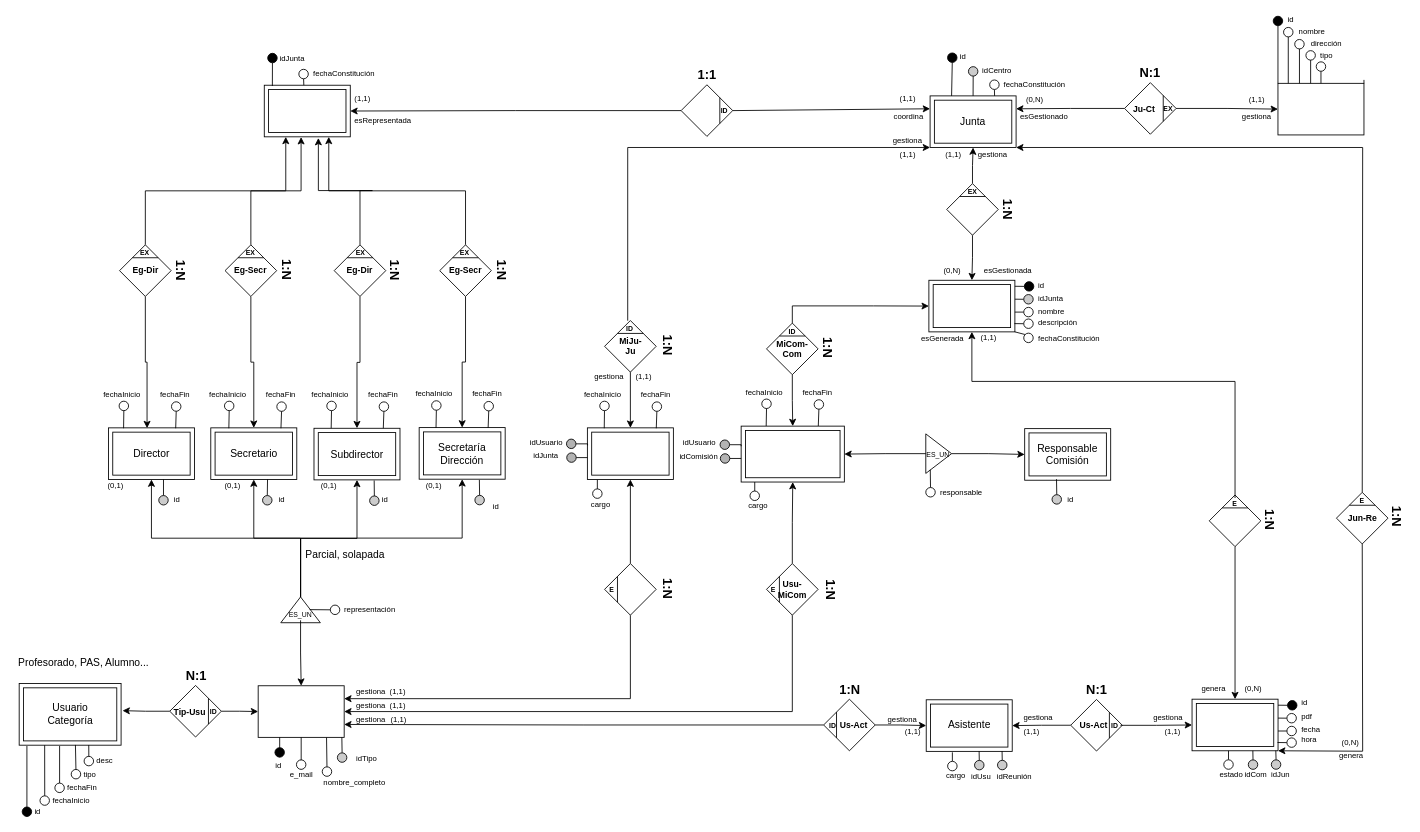
Image size: 1420x832. Some labels were removed from this diagram. Each missing label, with the box of its shape:
Centro: (1277, 82, 1364, 135)
Co-Re: (1208, 494, 1261, 547)
Comisión: (928, 279, 1015, 332)
Eg-Ju: (680, 84, 733, 136)
Equipo Gobierno: (263, 84, 350, 137)
Ju-Co: (946, 183, 998, 235)
Miembro Comisión: (740, 425, 844, 482)
Miembro Junta: (587, 427, 673, 479)
Reunión: (1191, 698, 1278, 751)
Usu- MiJu: (604, 563, 656, 615)
Usuario: (257, 685, 344, 737)
